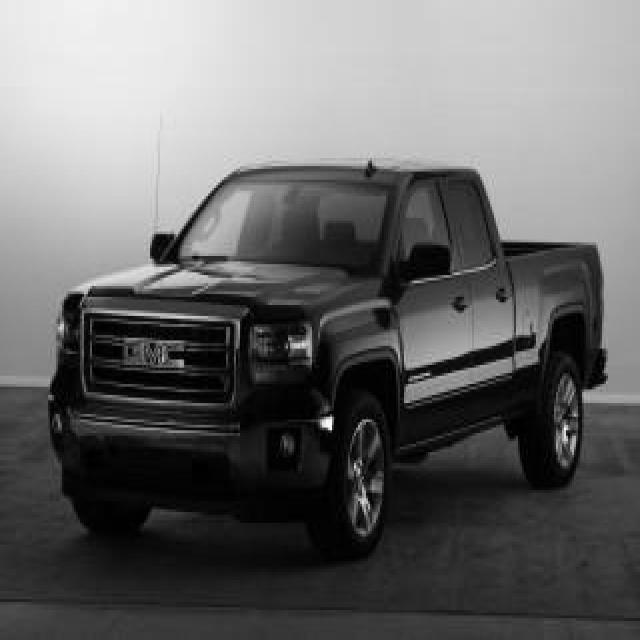Car: (48, 119, 624, 568)
